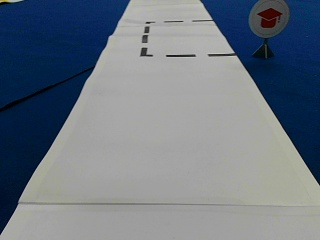school: (248, 1, 289, 36)
